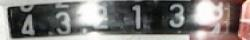digits: (83, 2, 121, 35), (20, 11, 71, 34), (193, 0, 223, 25), (167, 2, 185, 27), (53, 11, 71, 33), (20, 13, 35, 34), (131, 4, 140, 28)
